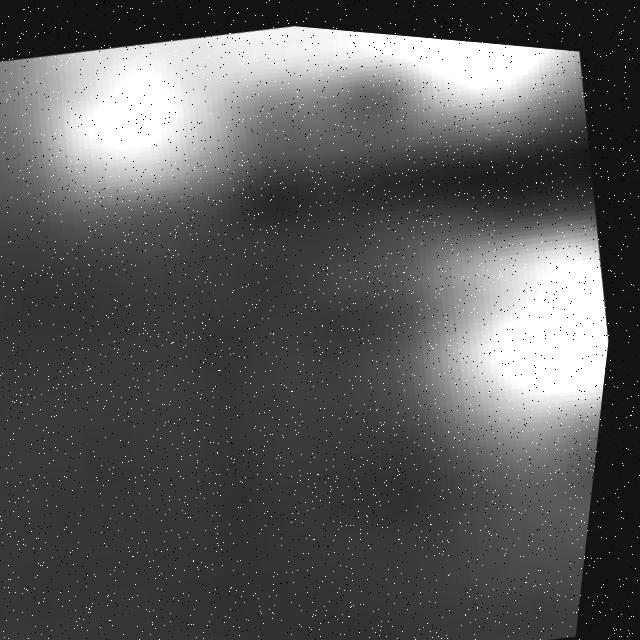person: (1, 1, 601, 277), (317, 192, 626, 484)
